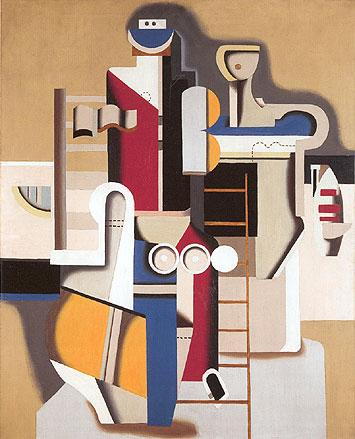person: (94, 12, 221, 408), (185, 38, 332, 282)
